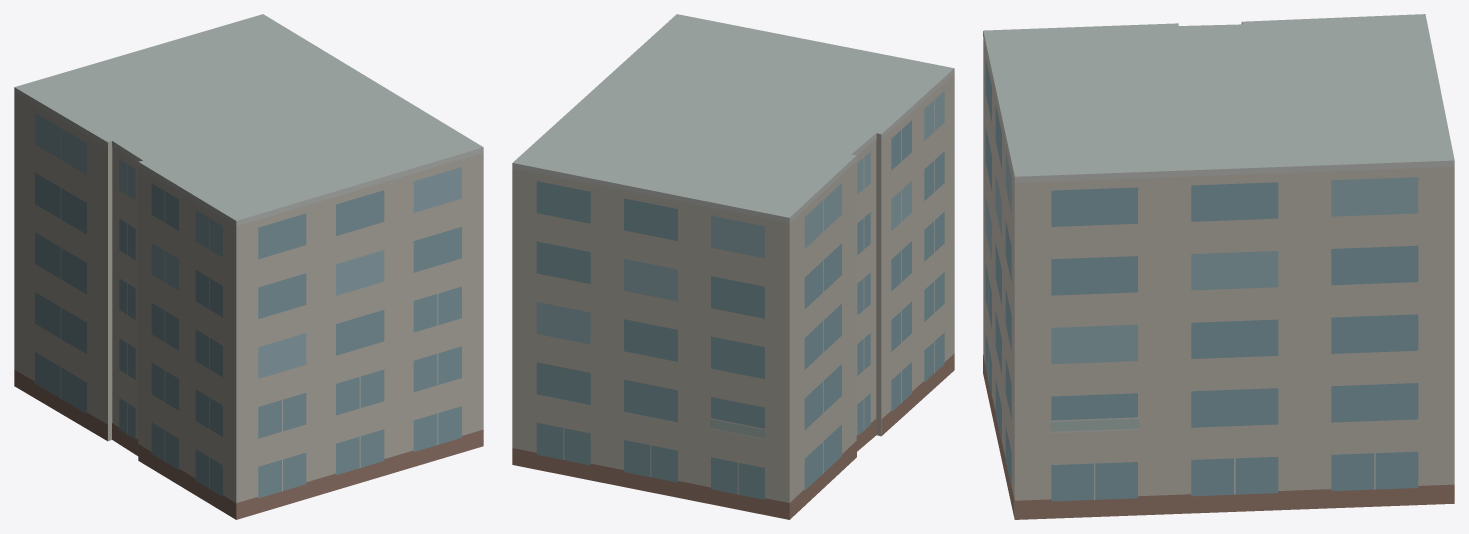
File: survey-upis-32699107.glb
The picture shows the model from 3 angles, left to right: view 1: azimuth 30°, elevation 25°; view 2: azimuth 150°, elevation 25°; view 3: azimuth 270°, elevation 25°; orthographic projection. The views are drawn at different scales.
Parts seen in each view (by area): view 1: survey-upis-32699107.tmp; view 2: survey-upis-32699107.tmp; view 3: survey-upis-32699107.tmp.
Part boxes in pixels (box(x1,y1,x2,y2)): survey-upis-32699107.tmp: box(14, 14, 483, 519); survey-upis-32699107.tmp: box(512, 14, 954, 519); survey-upis-32699107.tmp: box(983, 14, 1454, 519).
Bounding box in the file's own units: 13.74 × 13.5 × 16.82.
